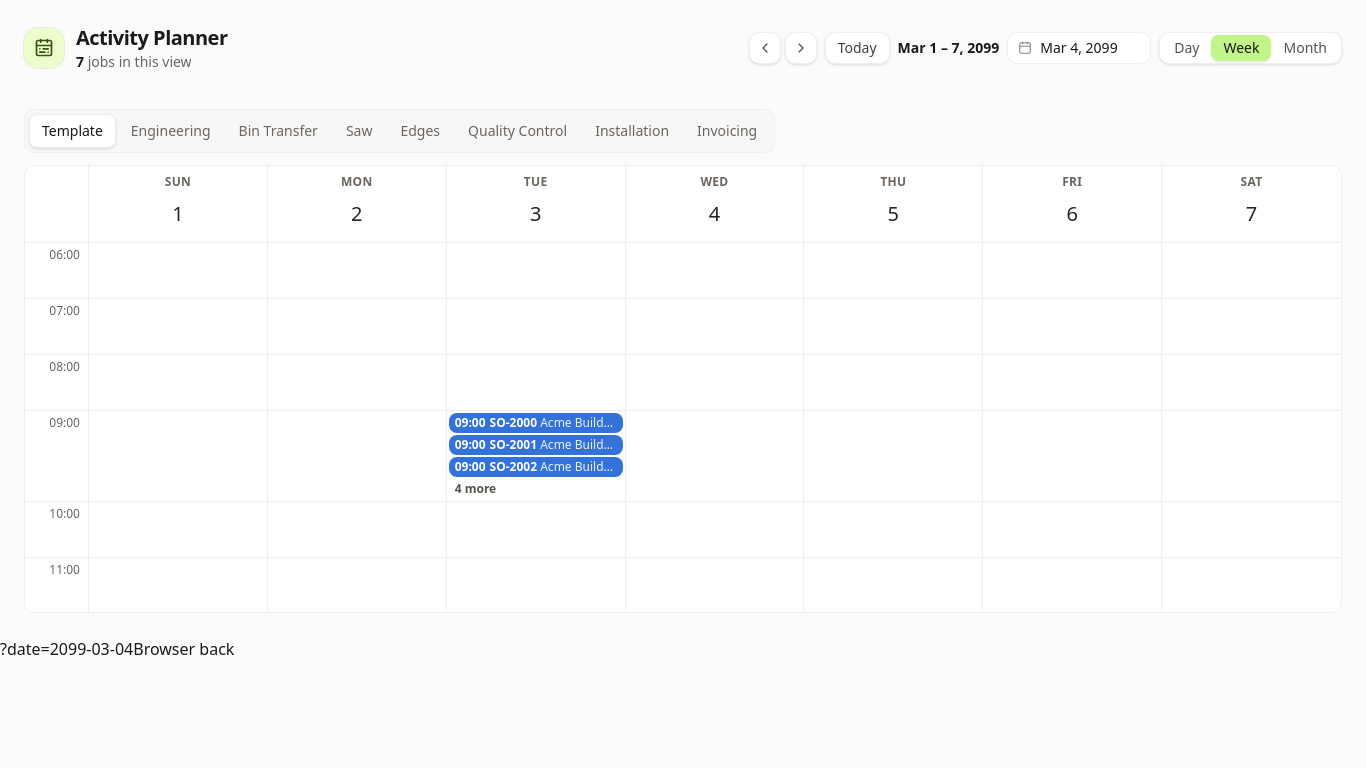
it: ActivityPlannerPage busy days › opens a job’s detail card from the list, and Escape closes the card before the list
(page scrolled)
Check: the text "SO-2000" is shown, box 490,415 -> 537,431
Click the button with aria-label "Show all 7 jobs for Tue, Mar 3, 09:00".
click(536, 489)  # box 449,479 -> 623,499
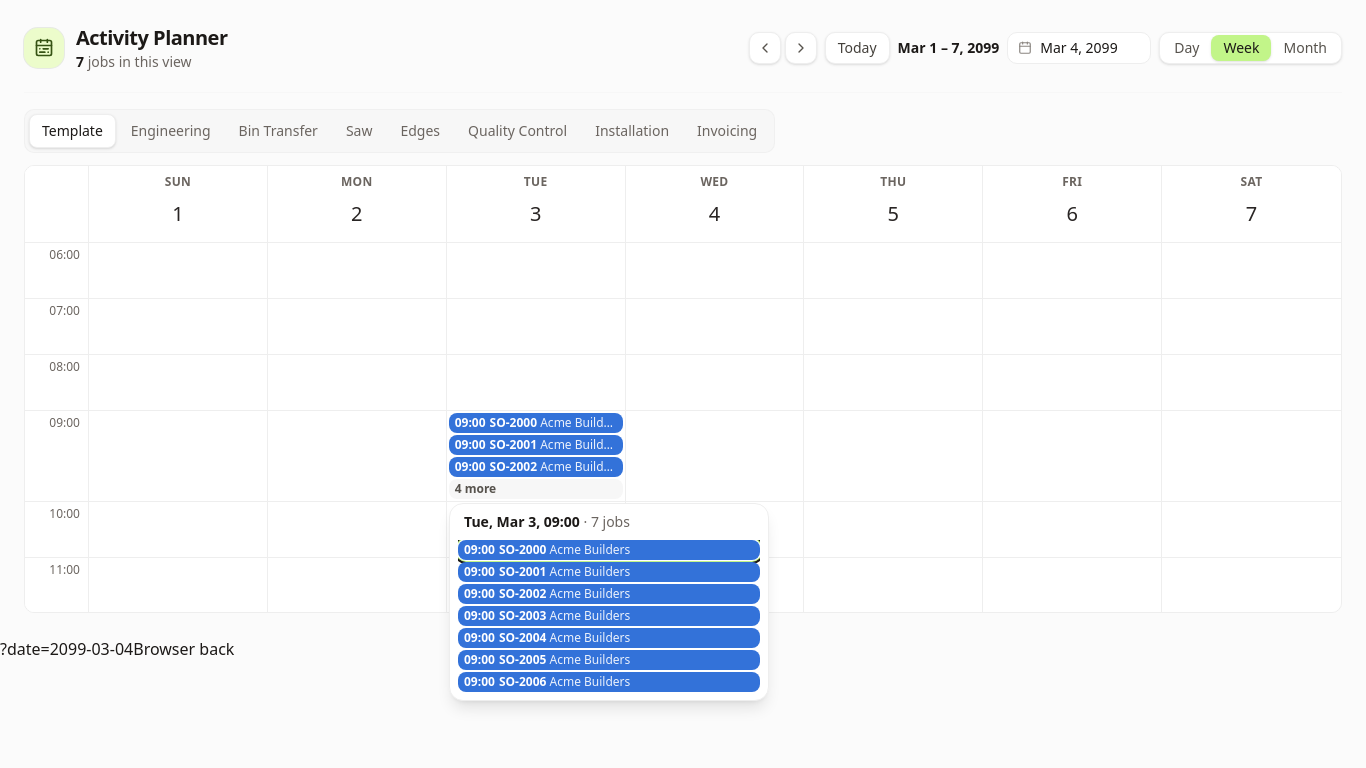
Click the button with aria-label "SO-2006,".
click(609, 682)  # box 458,672 -> 760,692
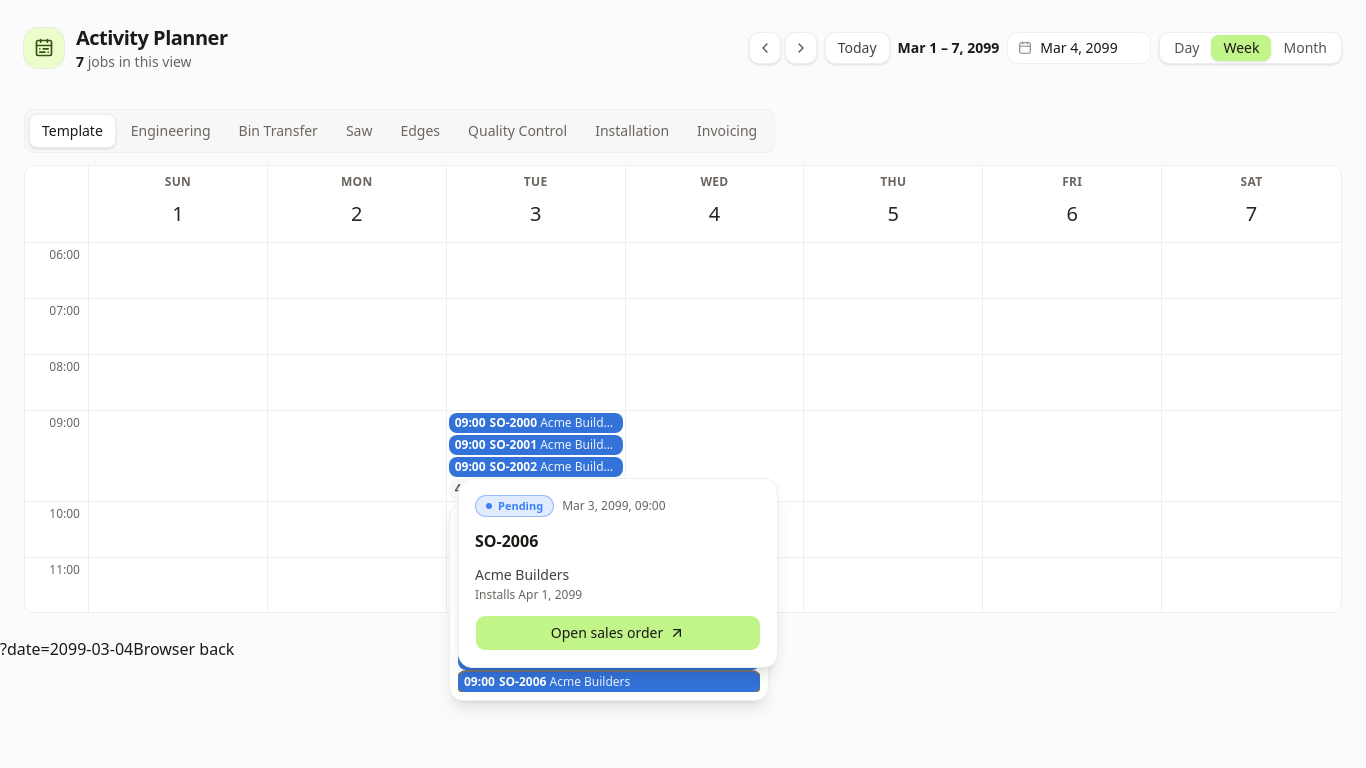
Check: the number of dialogs is 2, box 449,503 -> 769,701; 458,478 -> 778,668
Press Escape
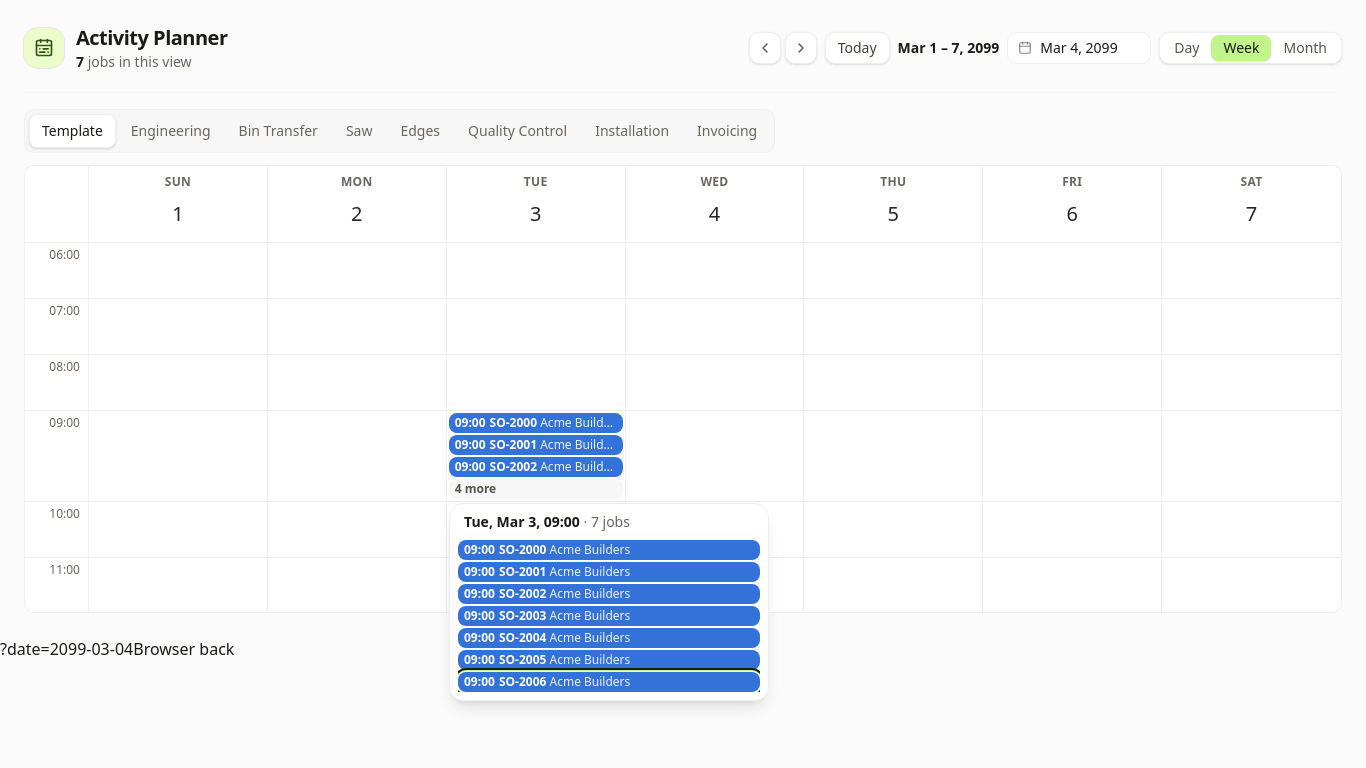
Check: the dialog named "Tue, Mar 3, 09:00, 7 jobs" is shown, box 449,503 -> 769,701
Press Escape
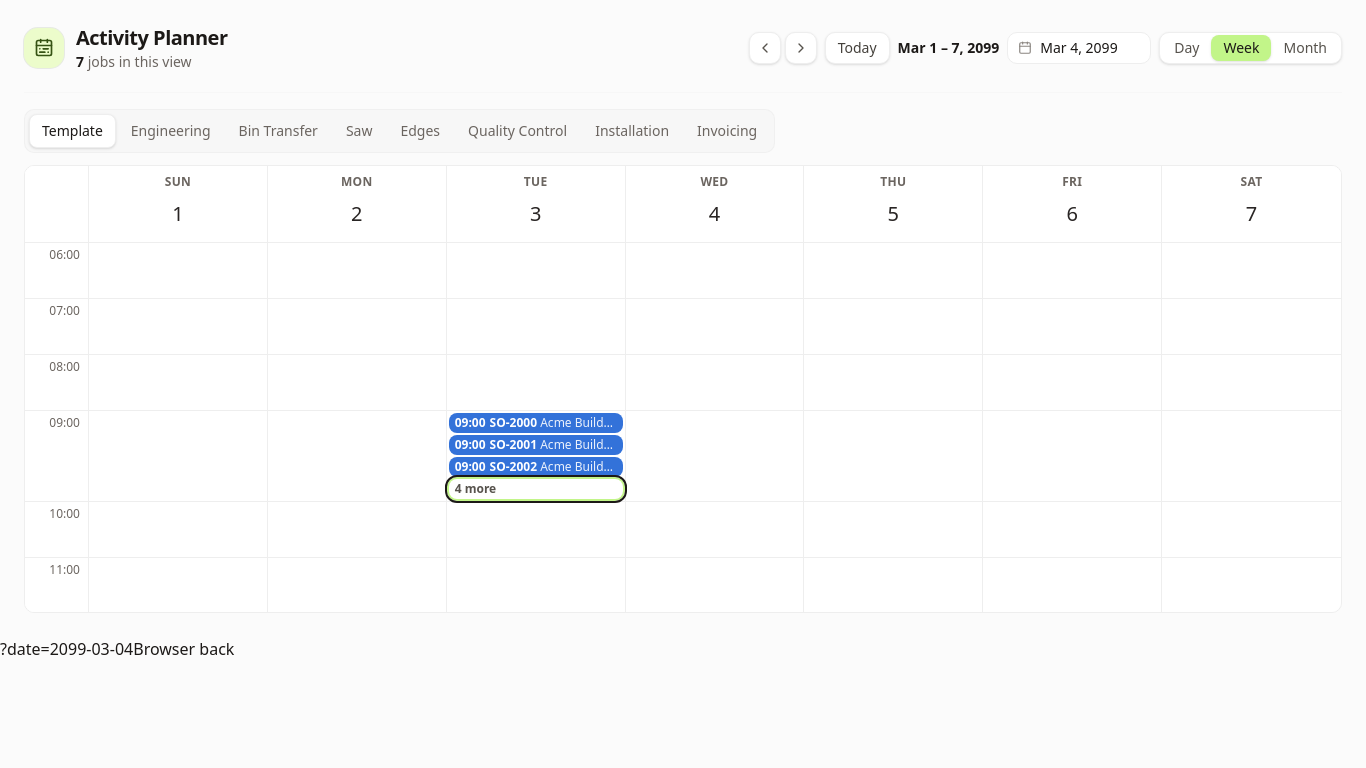
Check: the dialog is gone
